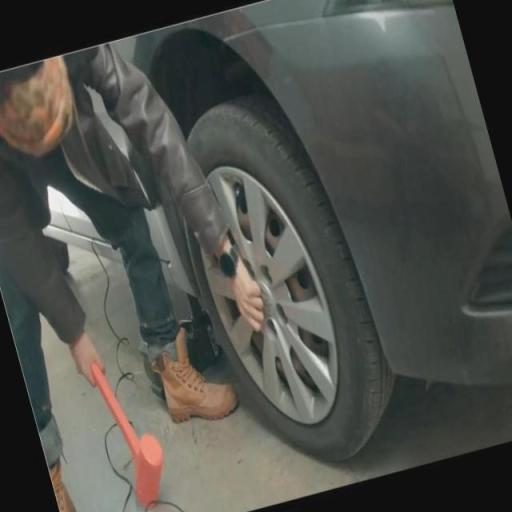mallet: (88, 350, 176, 512)
